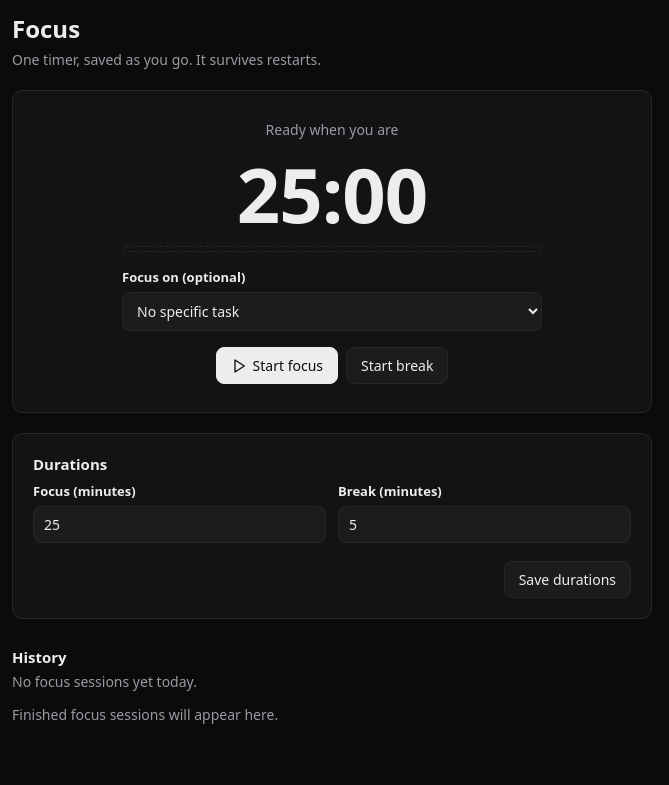
Test: FocusView › shows validation errors from the duration settings inline
Replace the text in the number field labelled "Focus (minutes)" with "500" at (180, 524), box [33, 506, 326, 543]
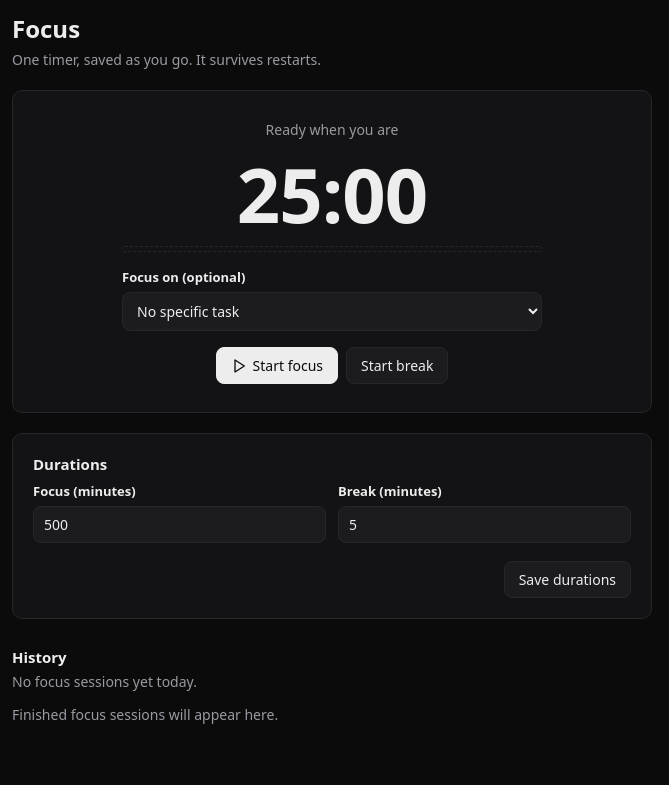
Click the button "Save durations" at (567, 580), box [504, 561, 631, 598]
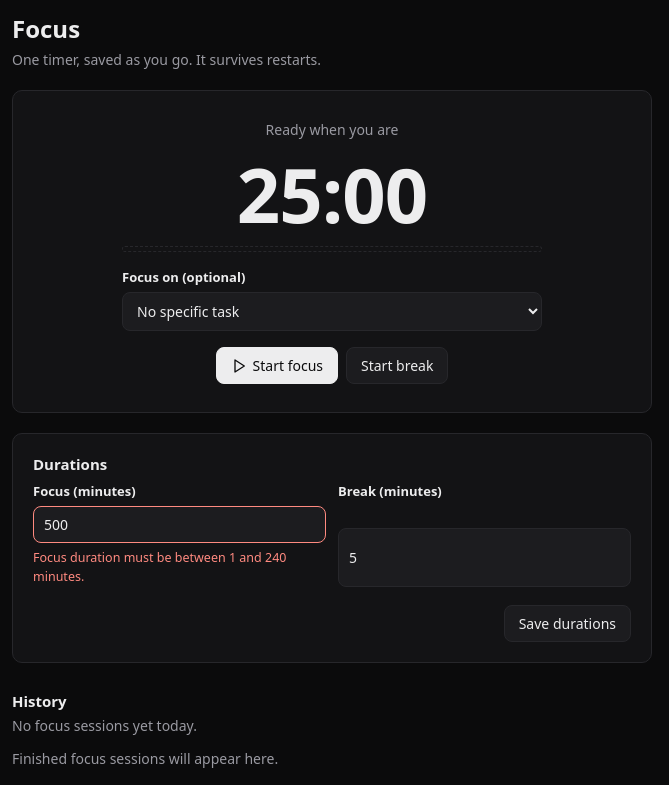
Check: the text "Focus duration must be between 1 and 240 minutes." is shown, box [33, 549, 326, 586]
